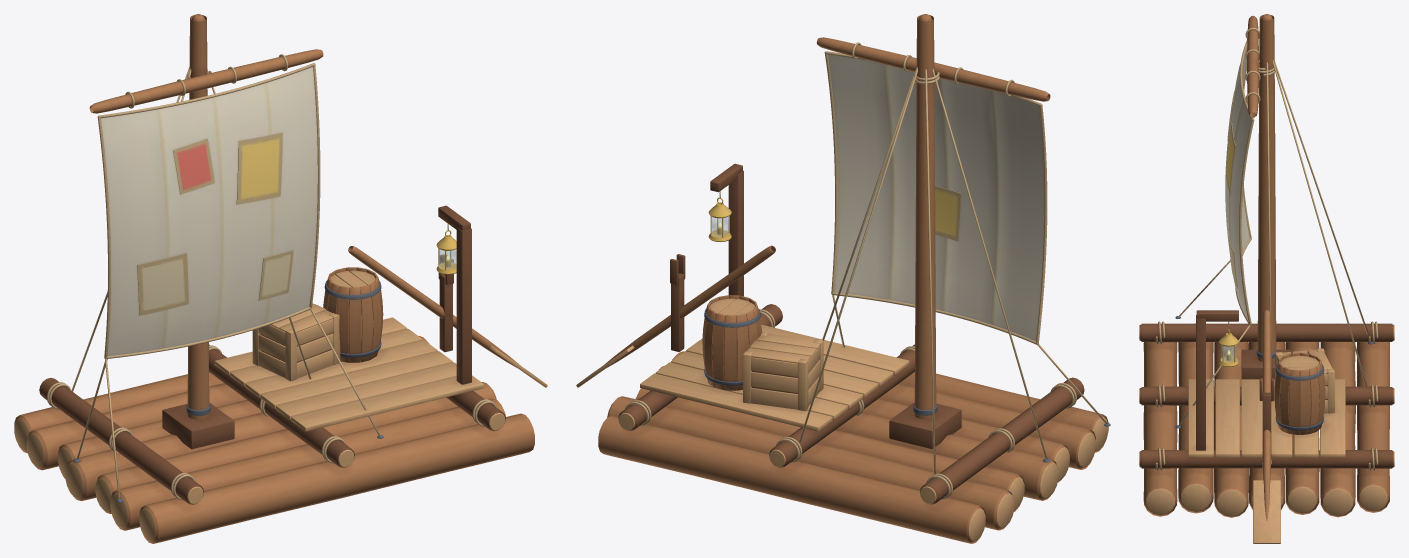
File: pirate-raft.glb
3 views of the same model, side by side, from view 1: azimuth 30°, elevation 25°; view 2: azimuth 150°, elevation 25°; view 3: azimuth 270°, elevation 25° (orthographic). The views are drawn at different scales.
Parts seen in each view (by area): view 1: pirate-raft_body; view 2: pirate-raft_body; view 3: pirate-raft_body.
Part boxes in pixels (bbox=[...]): pirate-raft_body: bbox=[14, 14, 547, 543]; pirate-raft_body: bbox=[576, 14, 1110, 543]; pirate-raft_body: bbox=[1139, 14, 1394, 543].
Bounding box in the file's own units: 3.71 × 3.41 × 2.02.
Materials: 4 (1 with a texture image).
